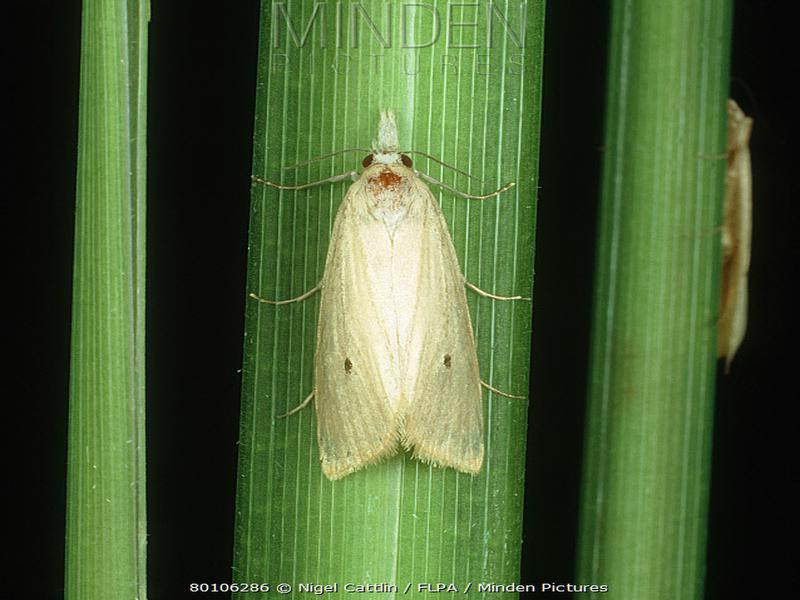Rice_skipper: (287, 119, 511, 496), (697, 89, 766, 373)
